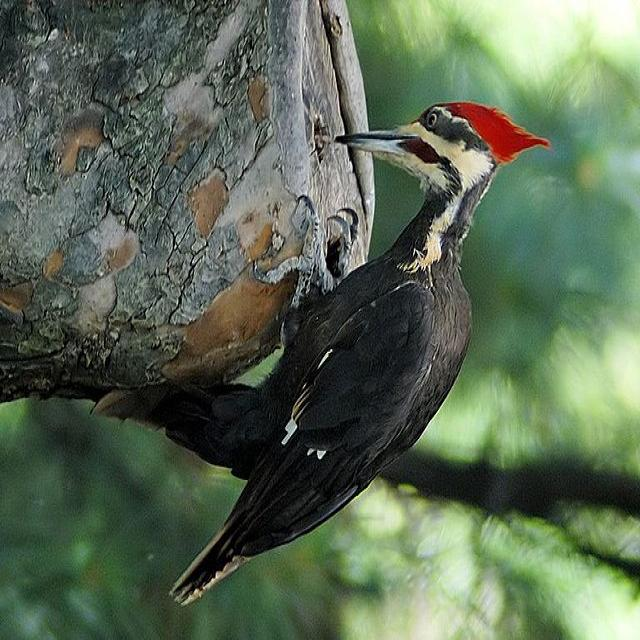Woodpecker: (167, 96, 550, 620)
